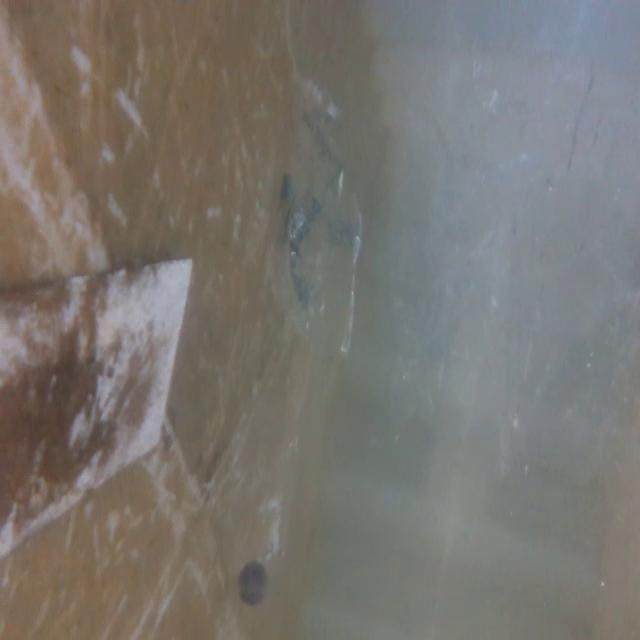plastic bags: (266, 89, 368, 363)
